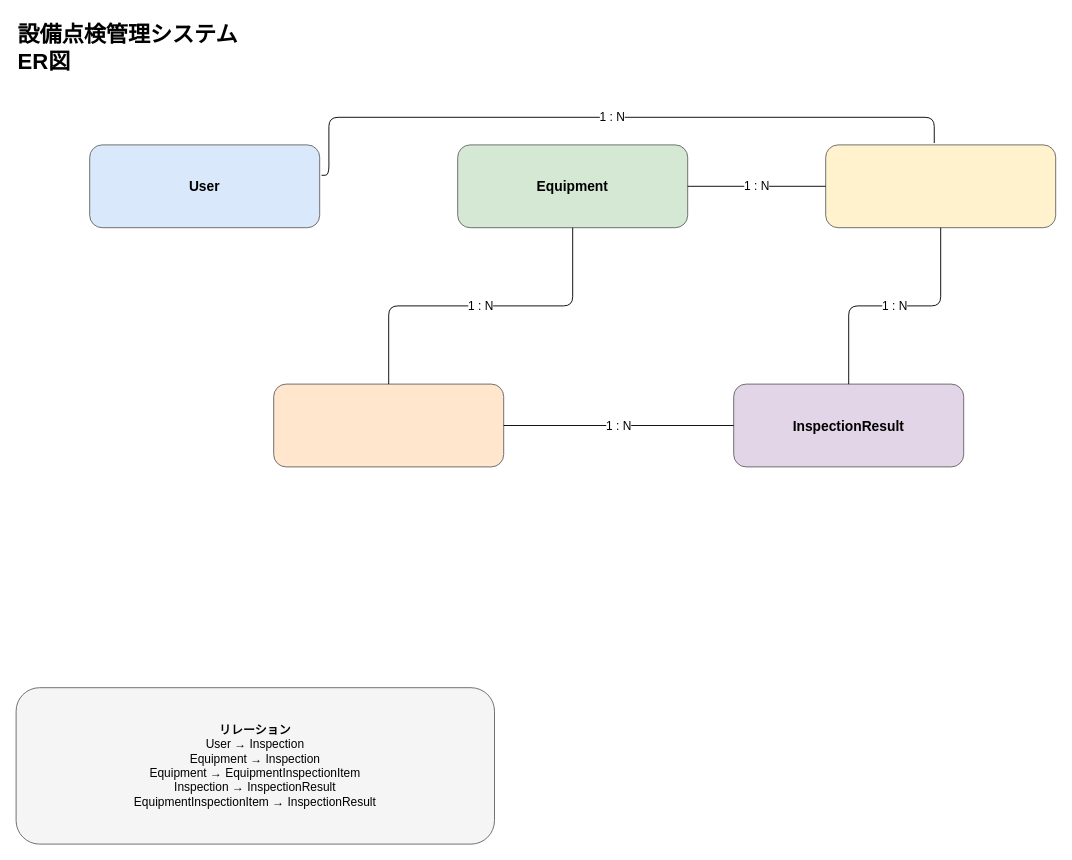
This 1072x860 diagram has some shape labels left out. Each missing label, with the box of its shape:
EquipmentInspectionItem: (273, 383, 504, 467)
Inspection: (825, 144, 1056, 228)
